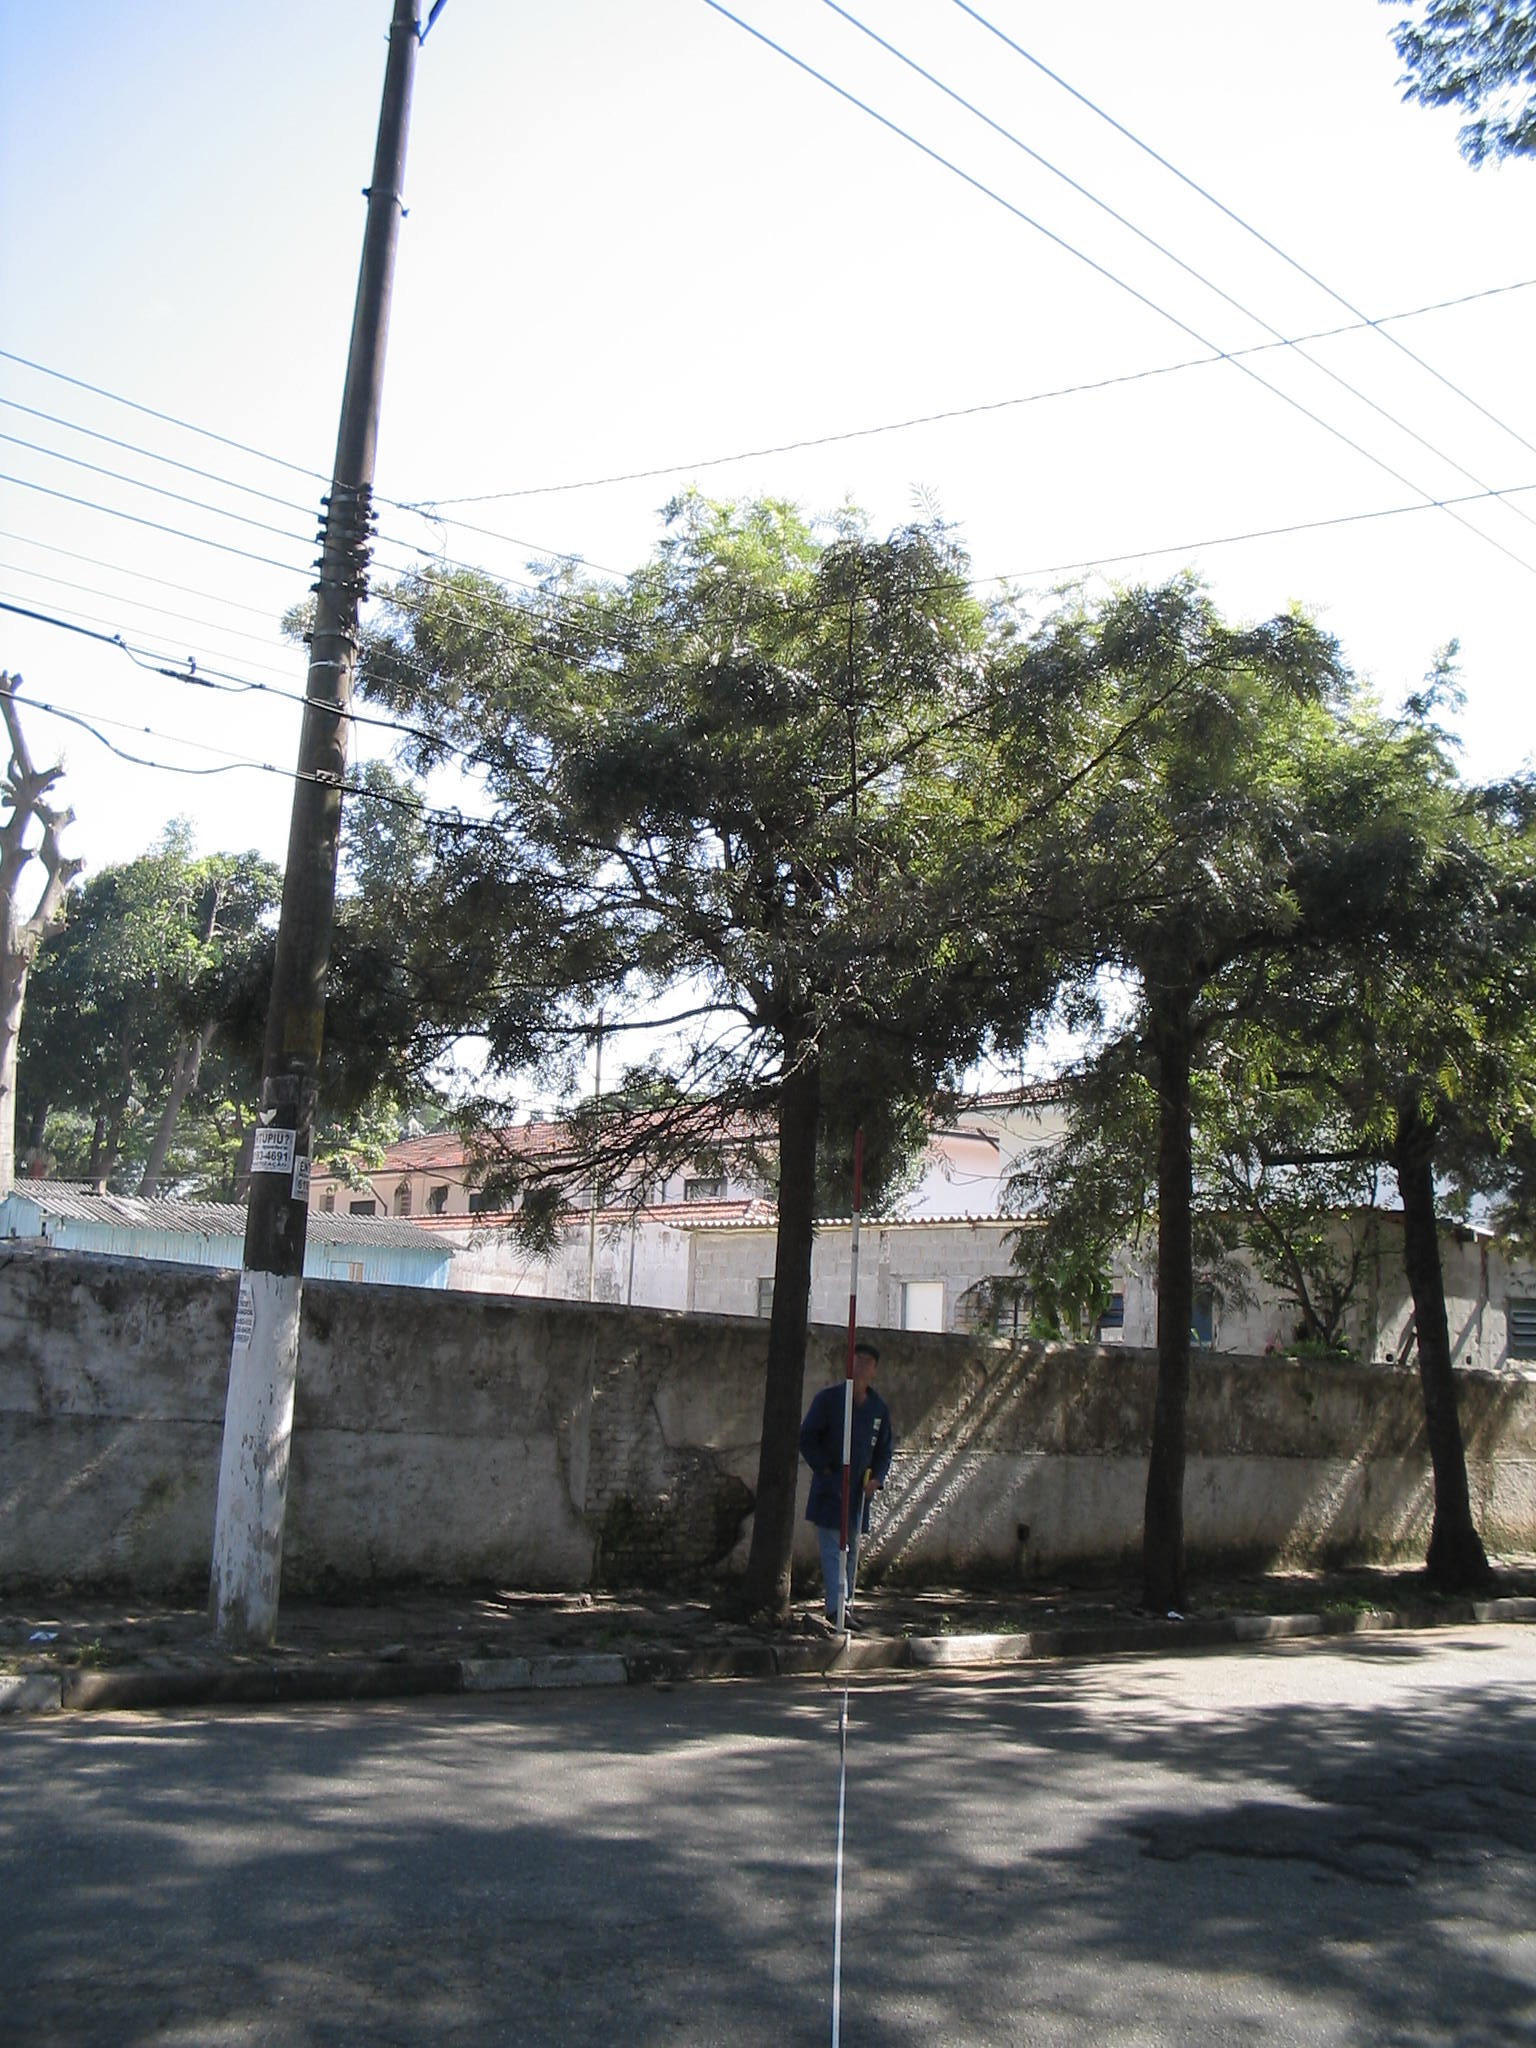crown: (315, 487, 1137, 1234)
stem: (1096, 1013, 1225, 1611), (721, 1047, 836, 1624), (1362, 1163, 1512, 1600)
stick: (824, 1126, 891, 1635)
tree: (295, 484, 1141, 1629), (983, 576, 1378, 1616), (1278, 718, 1536, 1598)
